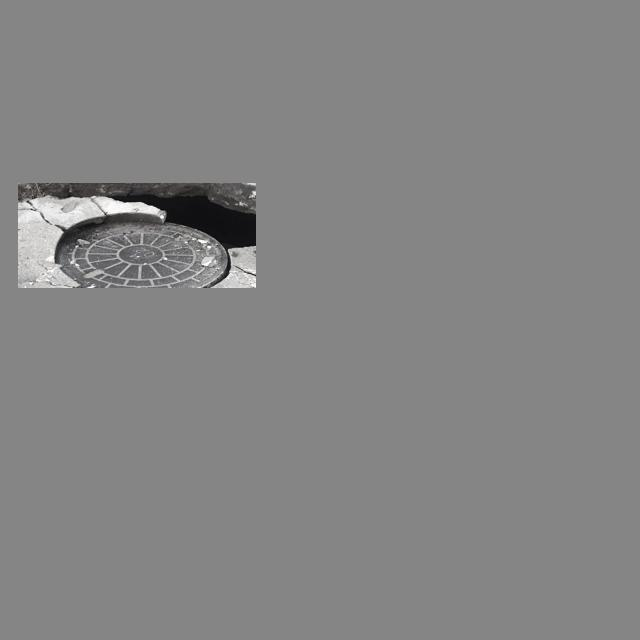circle: (20, 187, 253, 286)
